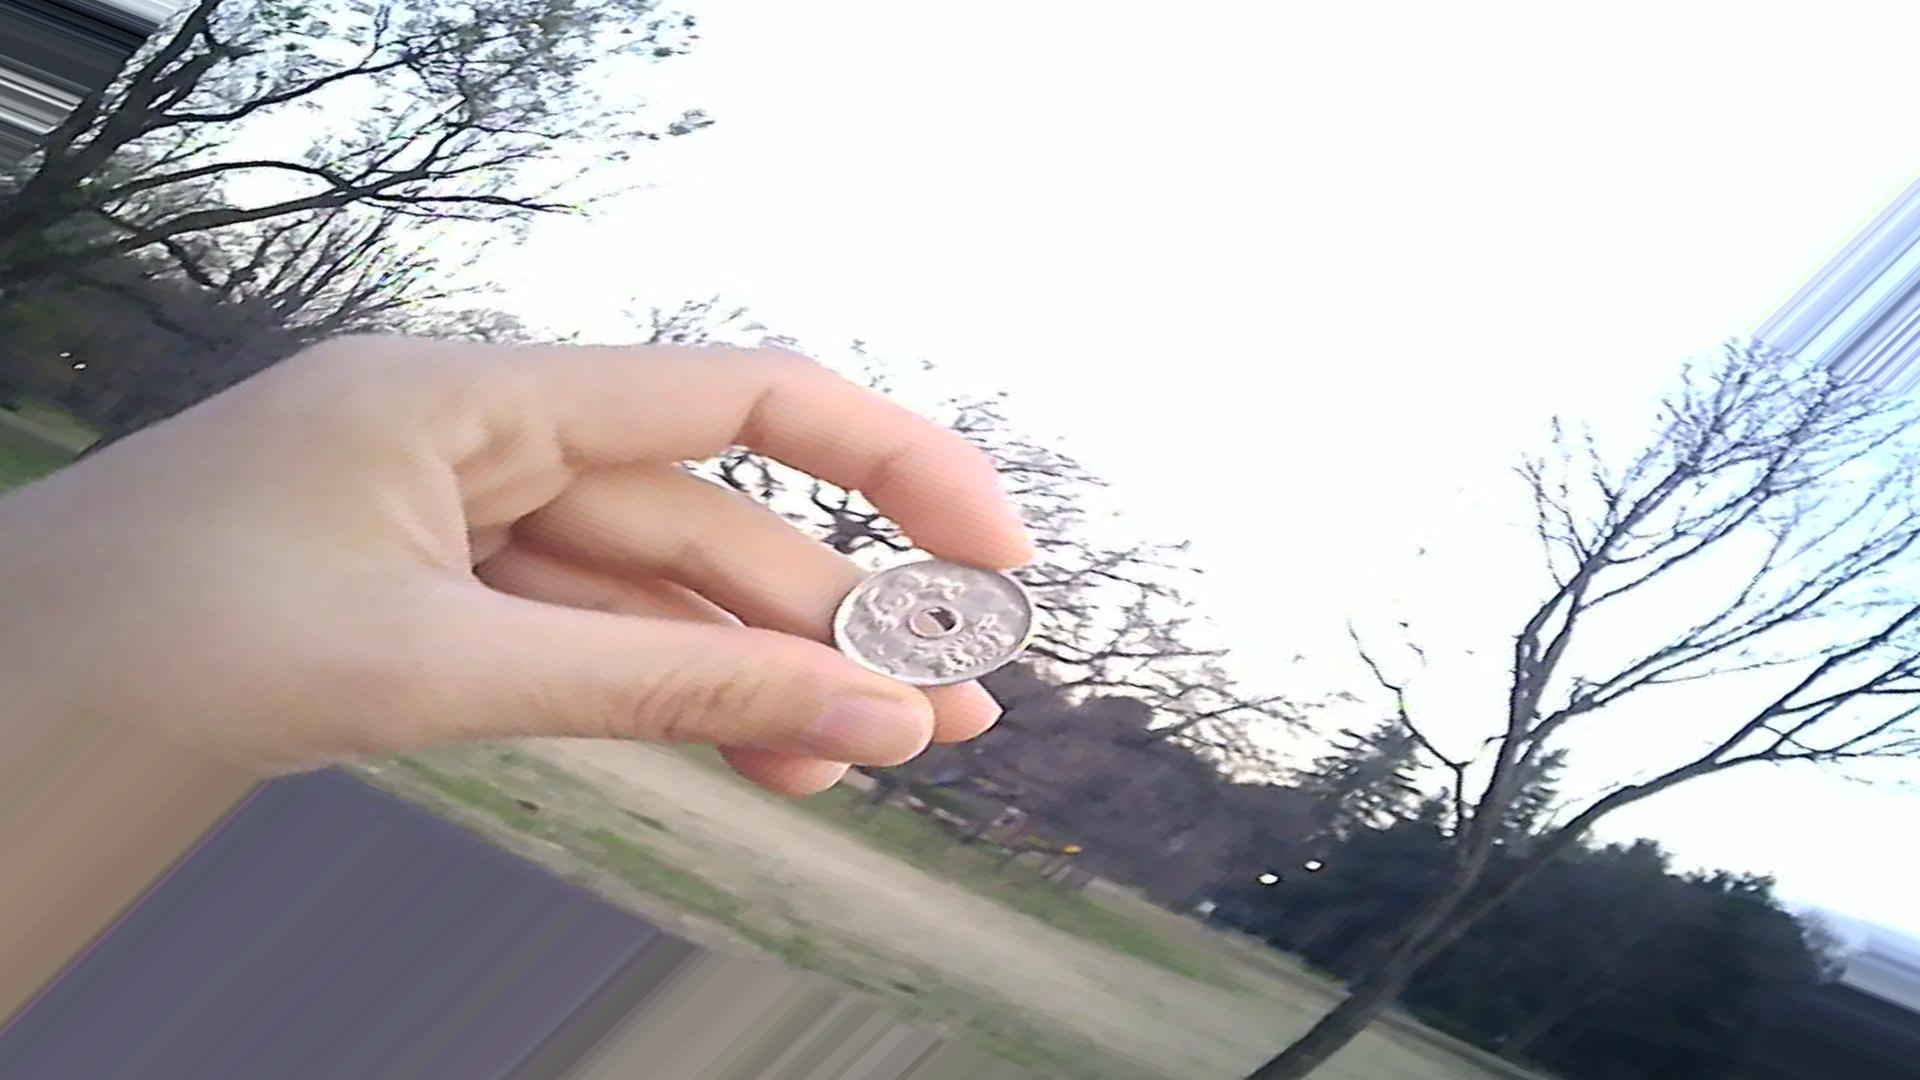50 Yen: (827, 539, 1025, 709)
